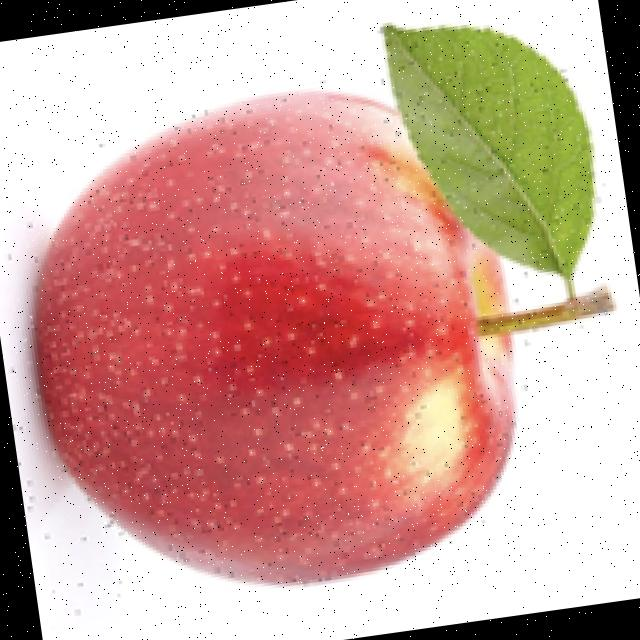apple: (0, 18, 621, 590)
